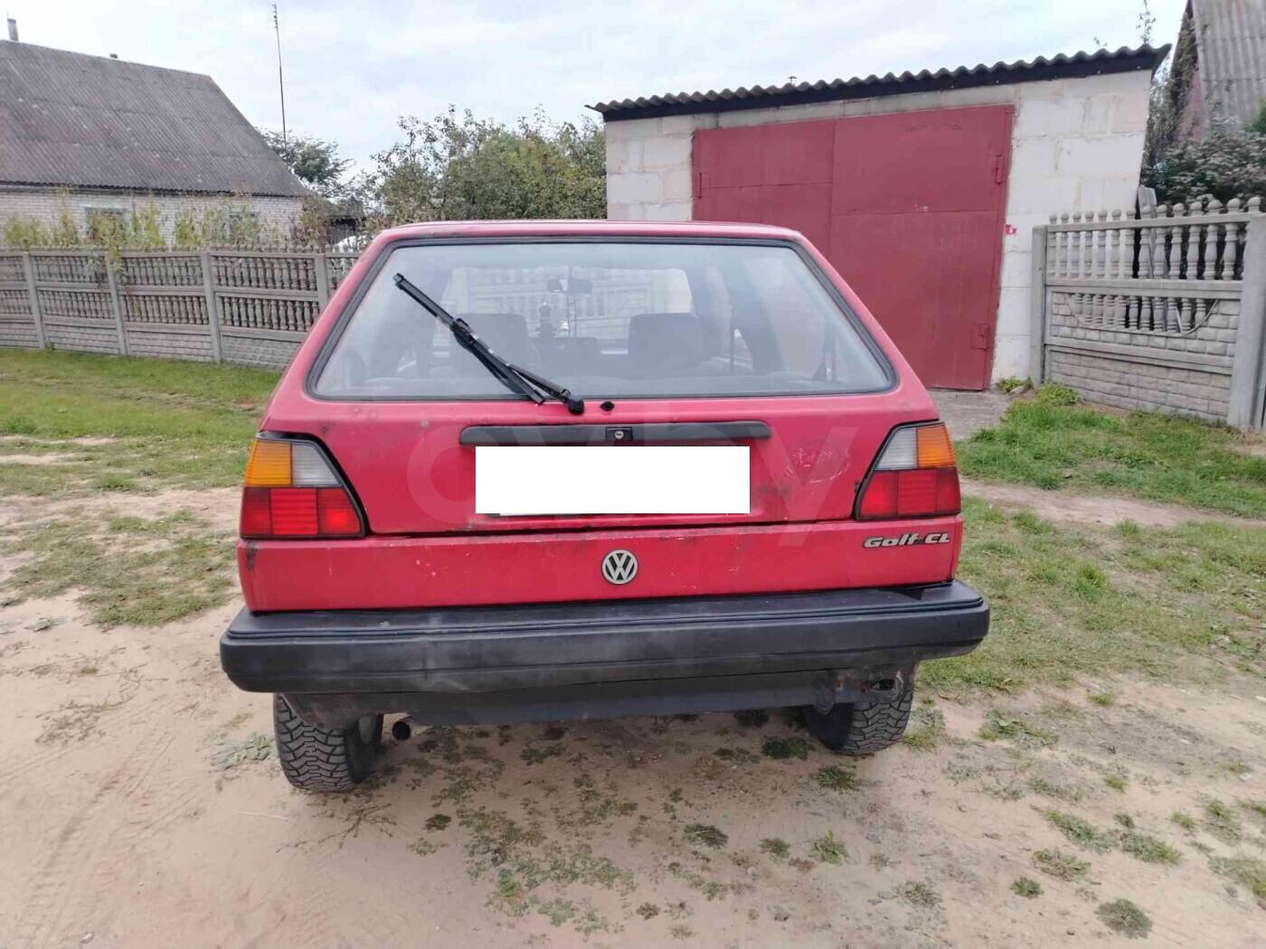Golf_1983-1992: (199, 212, 1005, 789)
